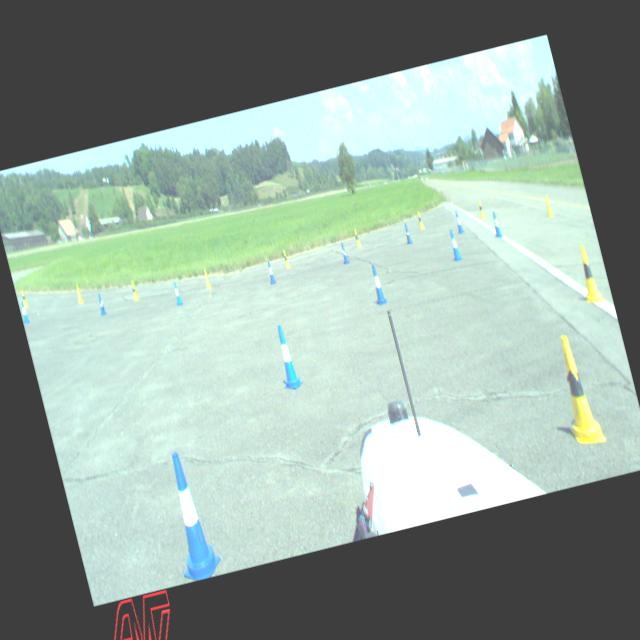blue_cone: (154, 447, 223, 582), (268, 322, 304, 392), (368, 262, 388, 304), (446, 228, 462, 260), (490, 210, 502, 238), (170, 281, 182, 305), (452, 209, 463, 233), (265, 260, 276, 284), (338, 242, 349, 264), (402, 221, 412, 244), (96, 292, 106, 315), (18, 301, 28, 323)
yellow_cone: (550, 332, 606, 448), (574, 243, 602, 304), (544, 195, 554, 218), (476, 199, 486, 219), (202, 268, 212, 288), (74, 284, 84, 303), (415, 210, 424, 230), (281, 248, 290, 268), (130, 280, 138, 300), (20, 289, 28, 307), (353, 228, 360, 246)
